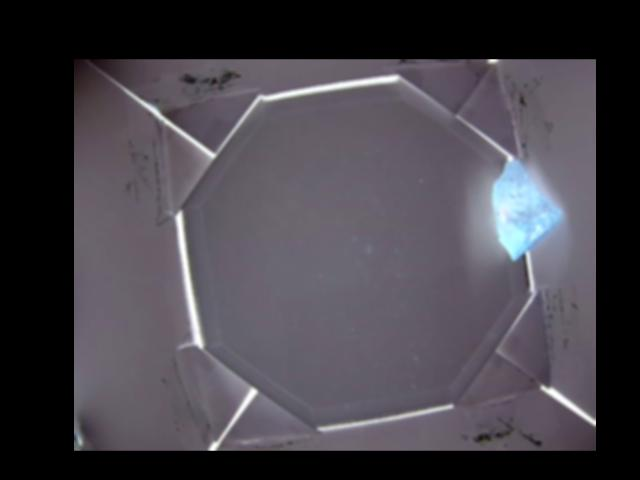Brisk: (493, 161, 560, 259)
